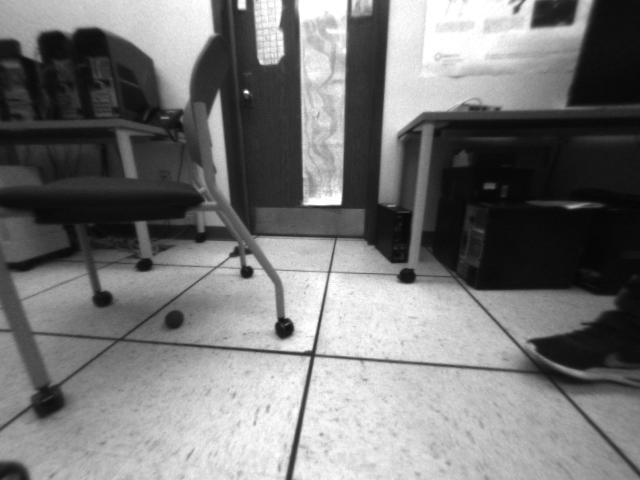dogtoy: (160, 301, 193, 333)
